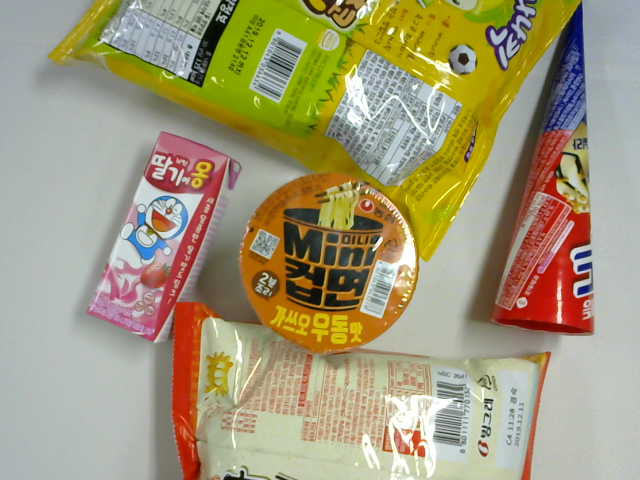Banana_Kick: (50, 1, 580, 260)
Crabrang: (171, 303, 552, 480)
Strawberry_E_Mong: (82, 127, 242, 346)
Udongmini: (237, 170, 420, 359)
World_Cone_Banila: (488, 1, 596, 336)
